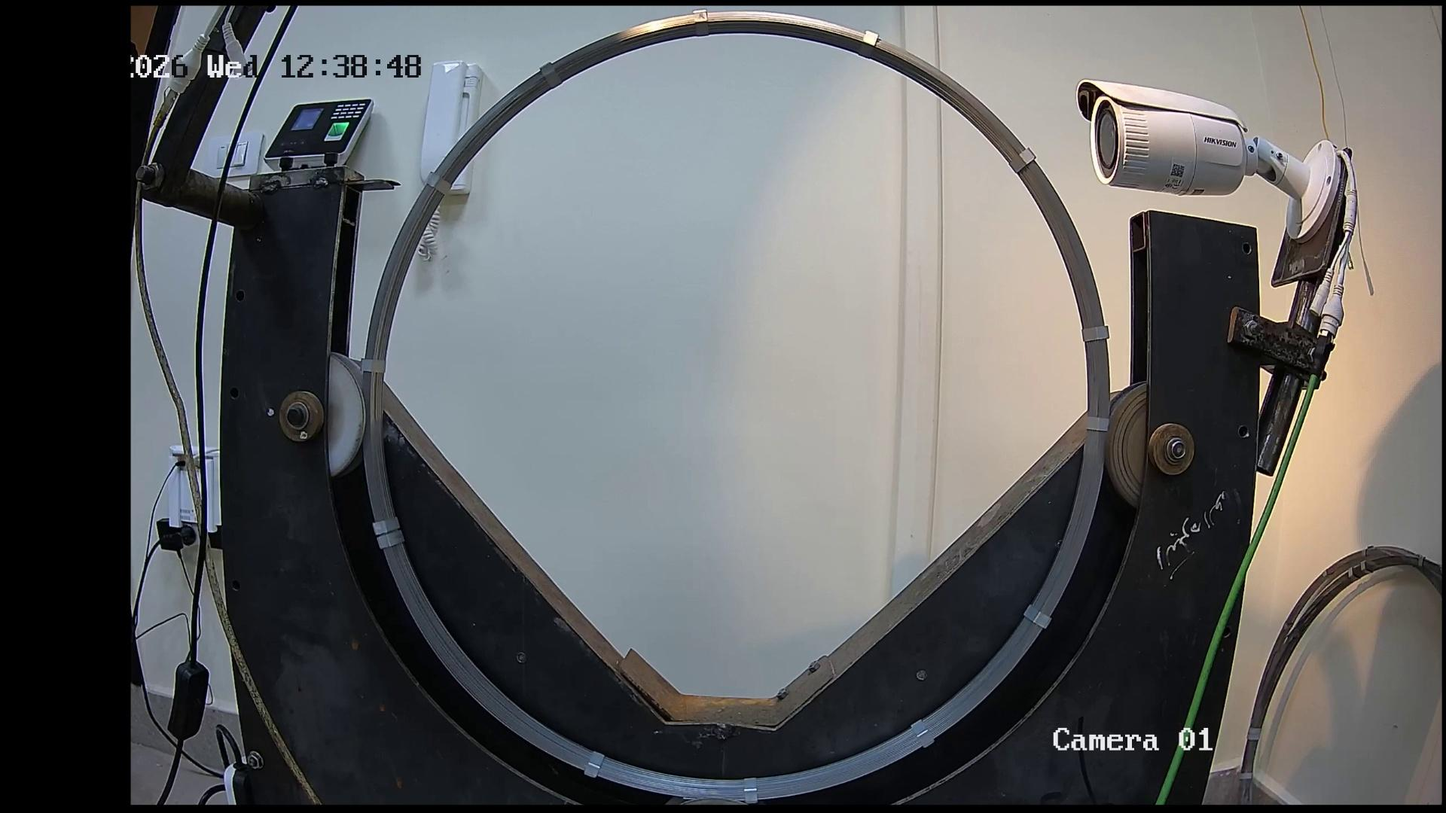clamp: (352, 337, 395, 382), (904, 708, 943, 751), (523, 58, 572, 92), (1017, 591, 1054, 636), (427, 162, 465, 203), (996, 139, 1039, 173), (352, 531, 422, 550), (1073, 312, 1109, 348), (1071, 410, 1118, 437), (685, 9, 725, 40), (589, 736, 612, 787), (742, 773, 770, 809), (851, 28, 885, 56), (363, 516, 410, 534)
